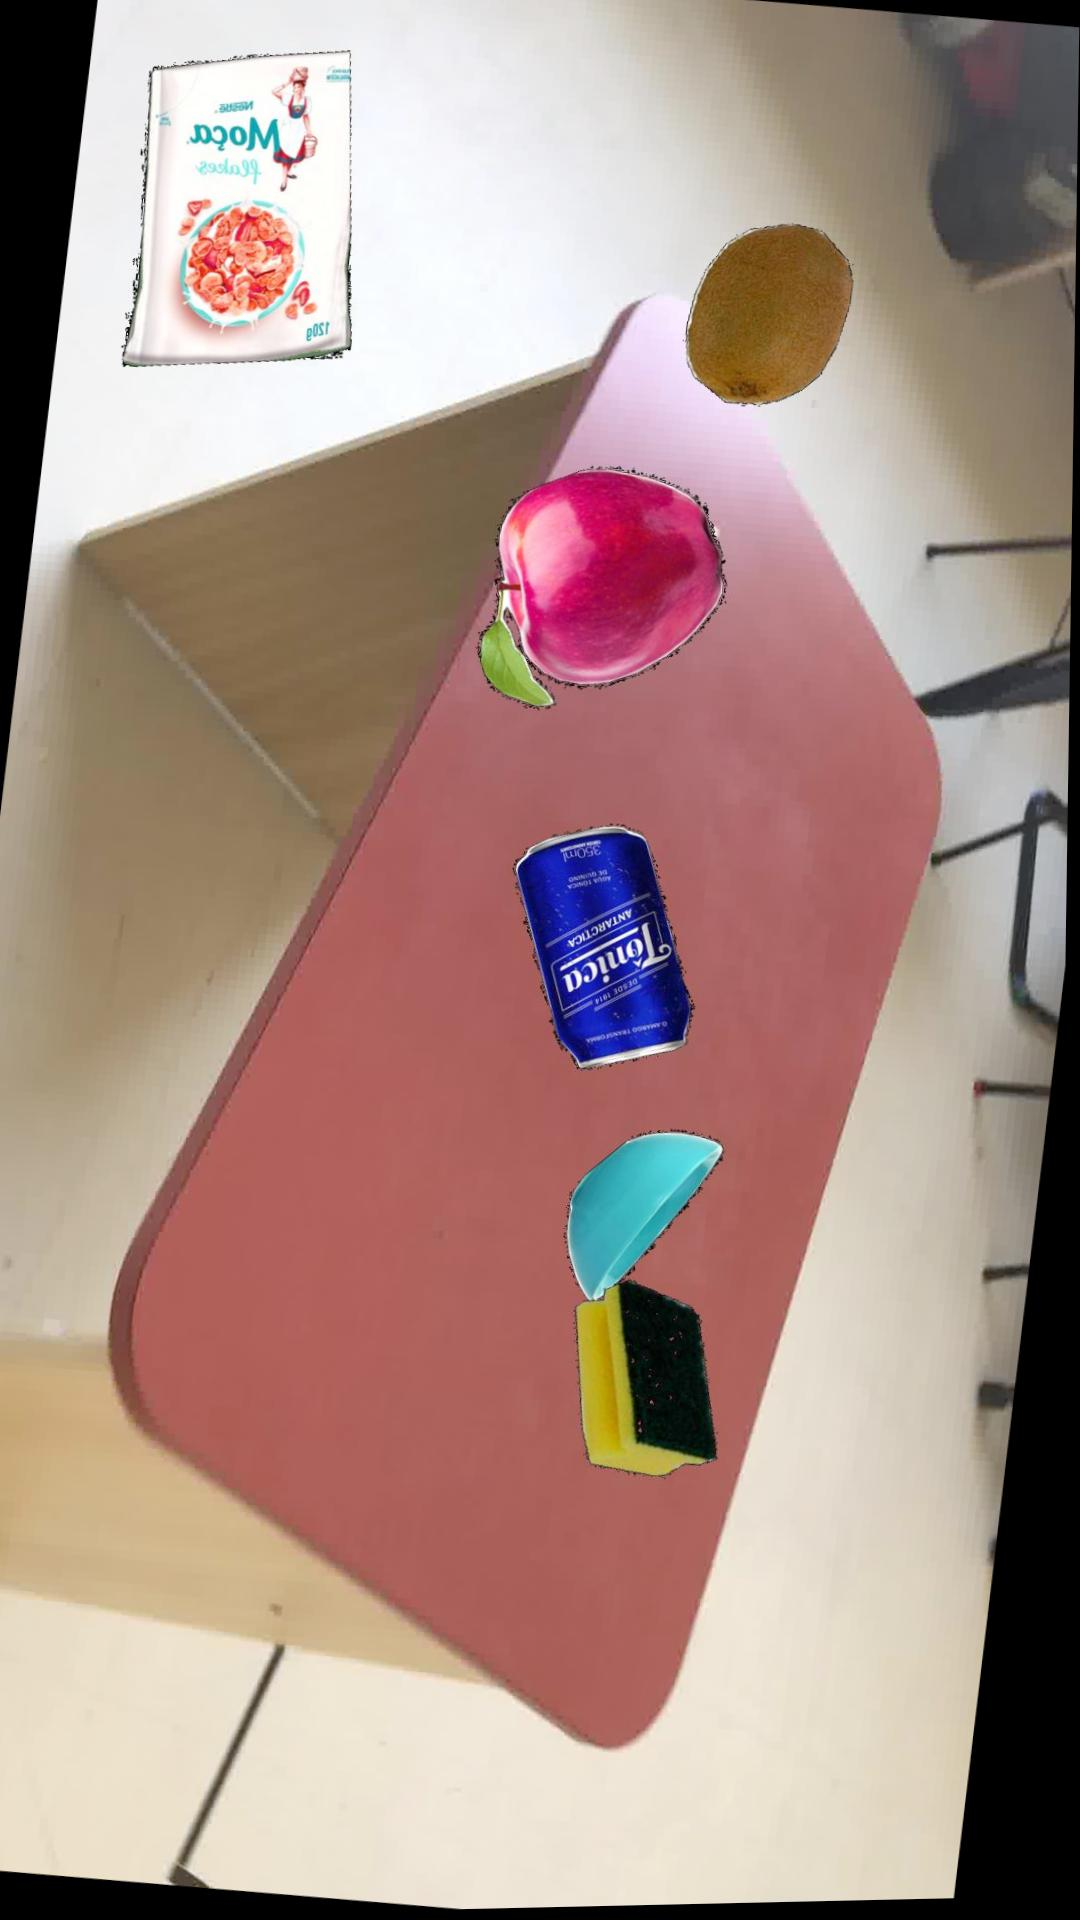apple: (479, 471, 725, 715)
bowl: (568, 1134, 725, 1304)
corn flakes: (121, 54, 351, 369)
kiwi: (684, 228, 853, 410)
sponge: (576, 1284, 720, 1481)
tonic: (514, 831, 696, 1073)
